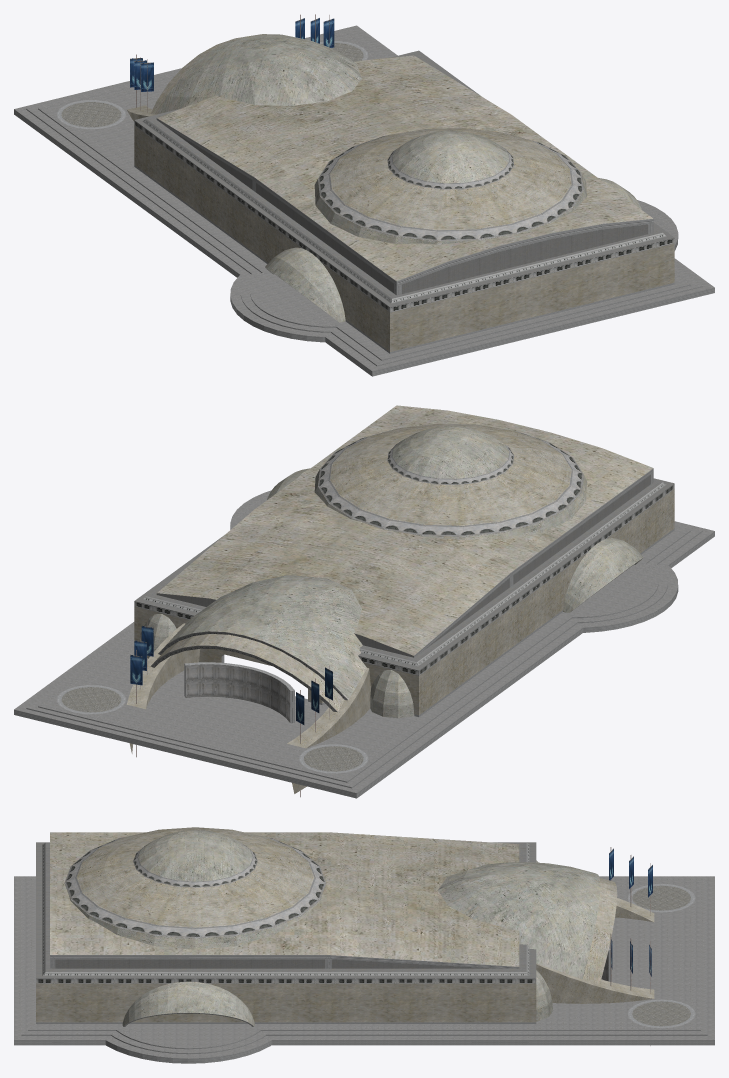
The model's file is mun_all_guild_theater_s01_r0_mesh_l0.fbx.
3 views of the same model, one above another, from view 1: azimuth 30°, elevation 25°; view 2: azimuth 150°, elevation 25°; view 3: azimuth 270°, elevation 25° (orthographic). The views are drawn at different scales.
Parts seen in each view (by area): view 1: mesh_node; view 2: mesh_node; view 3: mesh_node.
Boxes of the visible parts, box(x1,y1,x2,y2) form: mesh_node: box(14, 14, 714, 376); mesh_node: box(14, 405, 714, 798); mesh_node: box(14, 827, 714, 1063).
Size of the model in its own units: 82.18 by 32.27 by 121.
